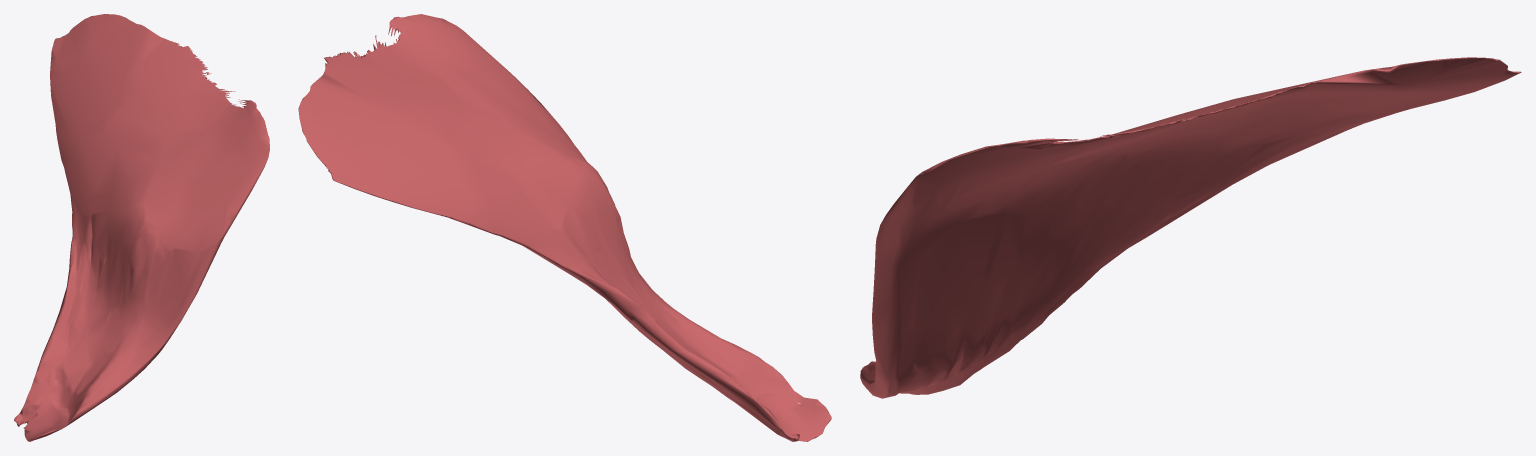
3 renders of one model, left to right at view 1: azimuth 30°, elevation 25°; view 2: azimuth 150°, elevation 25°; view 3: azimuth 270°, elevation 25°, orthographic. The views are drawn at different scales.
Visible parts, largest first — view 1: 右侧肩胛下肌; view 2: 右侧肩胛下肌; view 3: 右侧肩胛下肌.
Part boxes in pixels (x1,y1,x2,y2): 右侧肩胛下肌: (14, 14, 269, 441); 右侧肩胛下肌: (298, 14, 831, 441); 右侧肩胛下肌: (860, 57, 1521, 398).
Bounding box in the file's own units: 0.1547 × 0.1547 × 0.1688.
